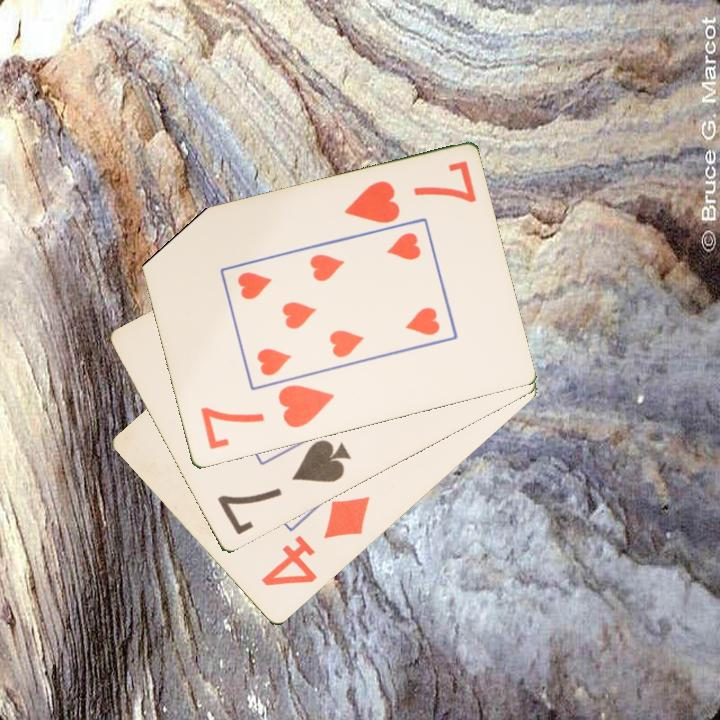4d: (258, 493, 373, 590)
7h: (196, 381, 337, 453), (340, 157, 479, 227)
7s: (213, 436, 355, 539)
